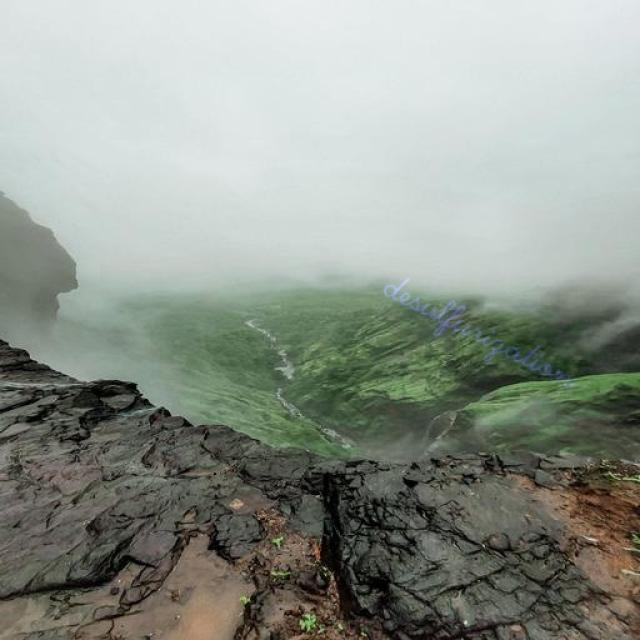watermark: (373, 265, 597, 396)
